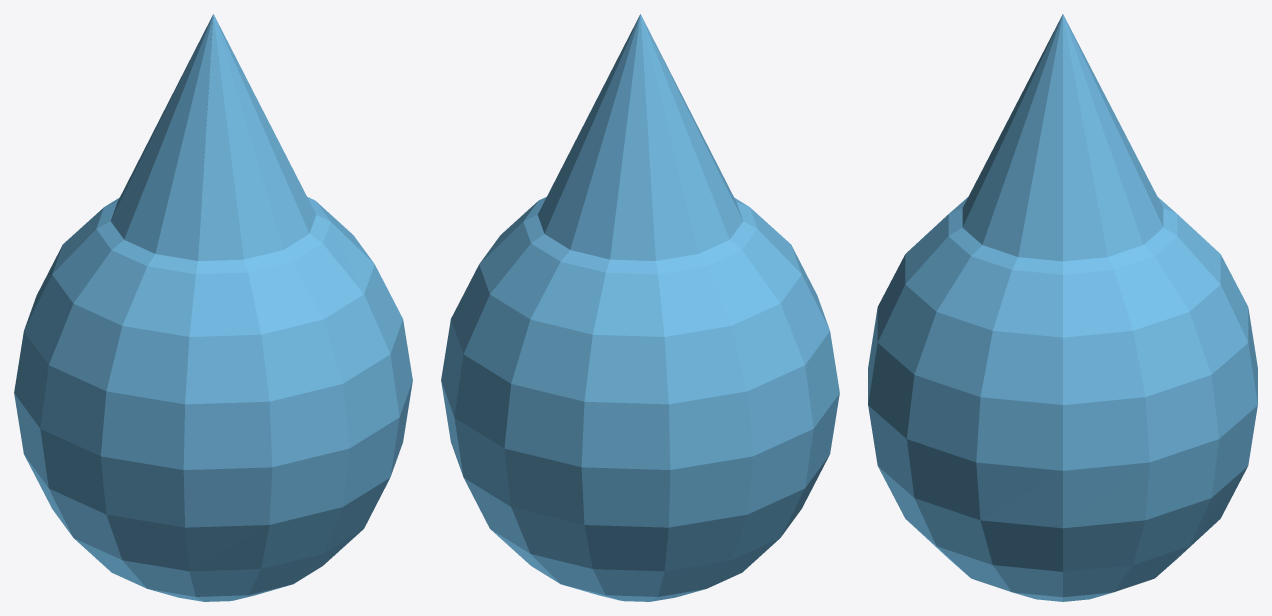
Rendered from Item_Cry.obj.
3 renders of one model, left to right at view 1: azimuth 30°, elevation 25°; view 2: azimuth 150°, elevation 25°; view 3: azimuth 270°, elevation 25°, orthographic.
Visible parts, largest first — view 1: Item_Cry; view 2: Item_Cry; view 3: Item_Cry.
Boxes of the visible parts, x1=… form: Item_Cry: x1=14, y1=14, x2=412, y2=601; Item_Cry: x1=441, y1=14, x2=839, y2=601; Item_Cry: x1=868, y1=14, x2=1257, y2=601.
Bounding box in the file's own units: 0.36 × 0.568 × 0.351.
